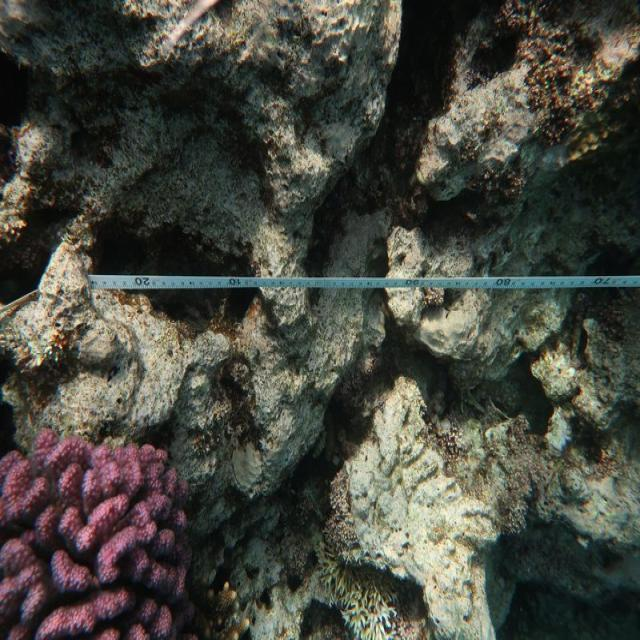Healthy Coral: (0, 420, 196, 639)
